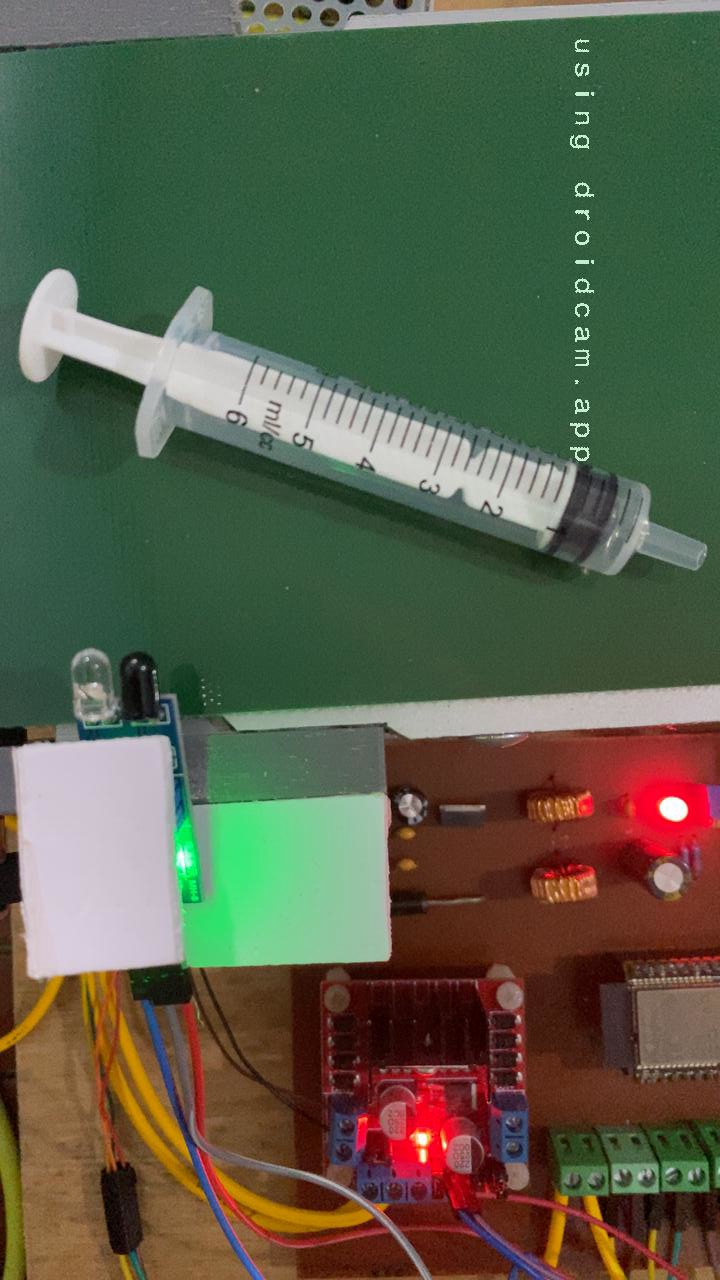syringe: (11, 261, 715, 584)
